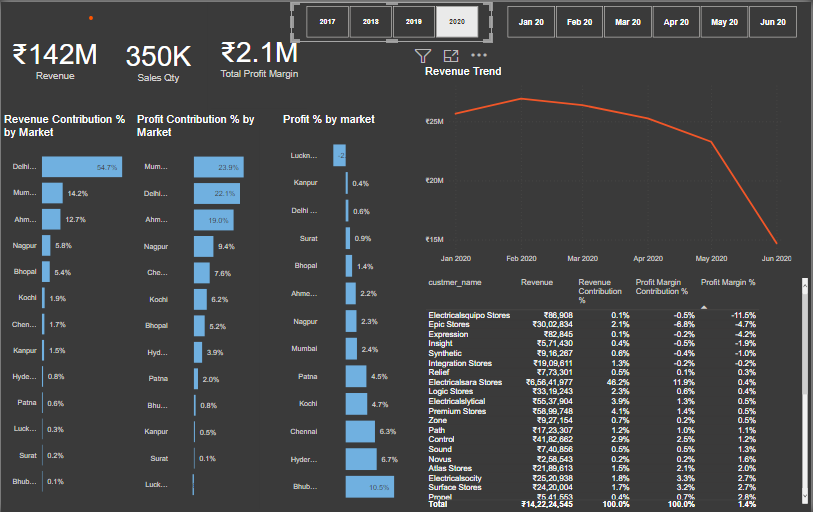

The dashboard page shown, as its layout file describes it:
{"tool":"powerbi","page":{"name":"Profit Analysis","canvas":[1350,850],"ordinal":1},"visuals":[{"type":"card","fields":{"Values":["BaseMeasures (2).Revenue"]},"box":[0,0,179.6,184.8],"z":0},{"type":"card","fields":{"Values":["BaseMeasures (2).Sales Qty"]},"box":[179.6,0,164.1,193],"z":1000},{"type":"barChart","title":"Profit % by market","fields":{"Y":["BaseMeasures (2).Profit Margin %"],"Category":["sales markets.markets_name"]},"box":[464.5,184.8,230.2,664.8],"z":2000},{"type":"barChart","title":"Profit Contribution % by Market","fields":{"Y":["BaseMeasures (2).Profit Margin Contribution %"],"Category":["sales markets.markets_name"]},"box":[221.9,185.8,208.5,659.6],"z":3000},{"type":"slicer","fields":{"Values":["sales date.year"]},"box":[483.2,0,335.5,66.5],"z":4000},{"type":"slicer","fields":{"Values":["sales date.cy_date"]},"box":[818.6,0,531.7,66.5],"z":5000},{"type":"tableEx","title":"Top 5 Customers","fields":{"Values":["sales customers.custmer_name","BaseMeasures (2).Revenue","BaseMeasures (2).Revenue Contribution %","BaseMeasures (2).Profit Margin Contribution %","BaseMeasures (2).Profit Margin %"]},"box":[701.9,454.2,648.3,395.4],"z":6000},{"type":"lineChart","title":"Revenue Trend","fields":{"Y":["BaseMeasures (2).Revenue"],"Category":["sales date.cy_date"]},"box":[701.9,104.3,621.4,338.6],"z":7000},{"type":"card","fields":{"Values":["BaseMeasures (2).Total Profit Margin"]},"box":[349.9,0,161,176.5],"z":8000},{"type":"barChart","title":"Revenue Contribution % by Market","fields":{"Y":["BaseMeasures (2).Revenue Contribution %"],"Category":["sales markets.markets_name"]},"box":[0,185.8,219.9,654.5],"z":9000}]}

Visuals, with their boxes in screenshot pixels (x1, y1, x2, y2), scaled from the page's 1350x850 canvas onto the 813x512 screenshot:
card - BaseMeasures (2).Revenue: Rect(0, 0, 108, 111)
card - BaseMeasures (2).Sales Qty: Rect(108, 0, 207, 116)
"Profit % by market" barChart: Rect(280, 111, 418, 511)
"Profit Contribution % by Market" barChart: Rect(134, 112, 259, 509)
slicer - sales date.year: Rect(291, 0, 493, 40)
slicer - sales date.cy_date: Rect(493, 0, 812, 40)
"Top 5 Customers" tableEx: Rect(423, 274, 812, 511)
"Revenue Trend" lineChart: Rect(423, 63, 797, 267)
card - BaseMeasures (2).Total Profit Margin: Rect(211, 0, 308, 106)
"Revenue Contribution % by Market" barChart: Rect(0, 112, 132, 506)
